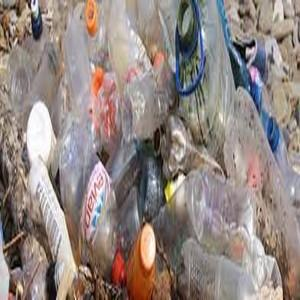Plastic: (60, 129, 127, 284)
